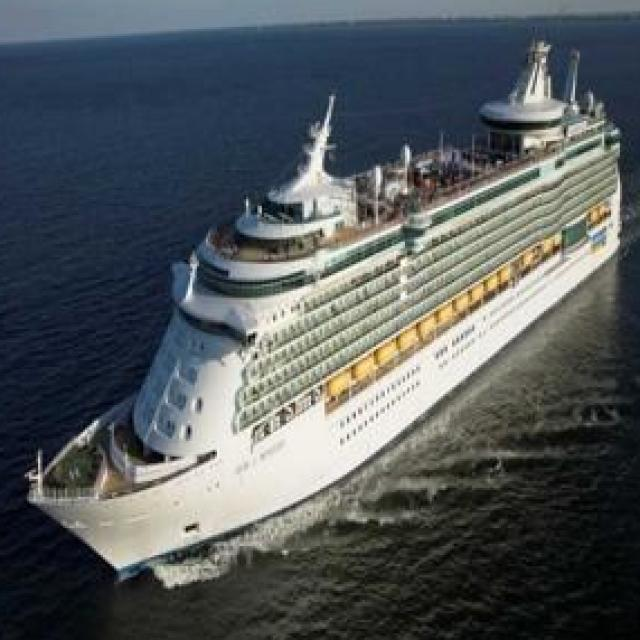passenger ship: (36, 31, 630, 570)
